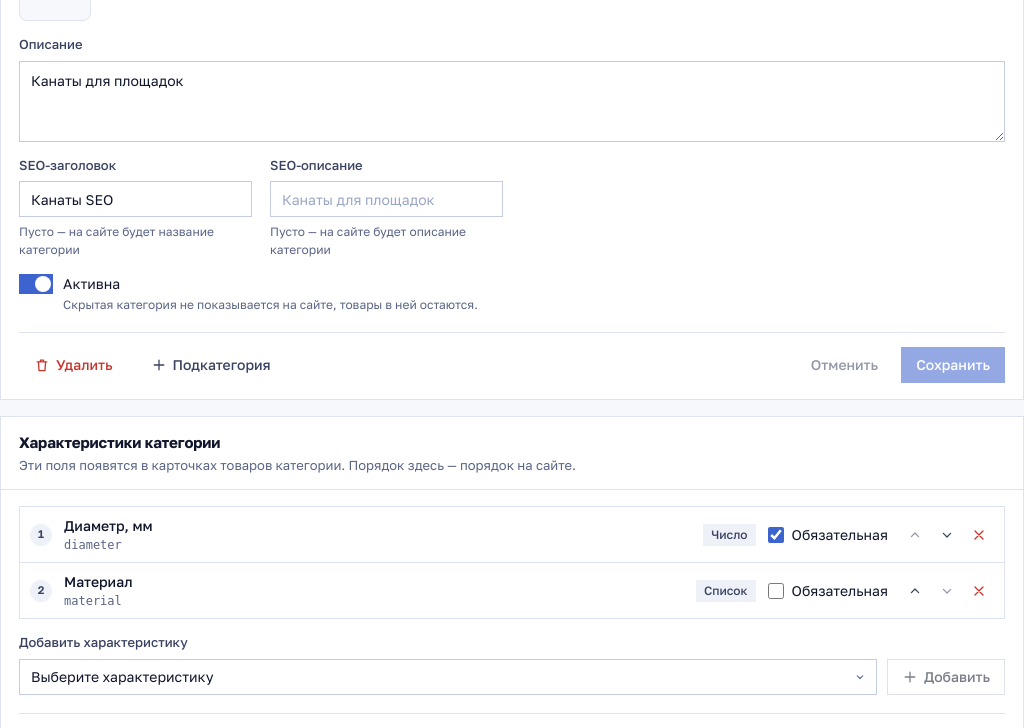
it: удаление и восстановление категории › 409: есть подкатегории / есть товары — объяснение, категория остаётся
This screenshot has width=1024, height=728.
(page scrolled)
Click the button "Удалить".
click(73, 365)  # box [19,347,128,383]
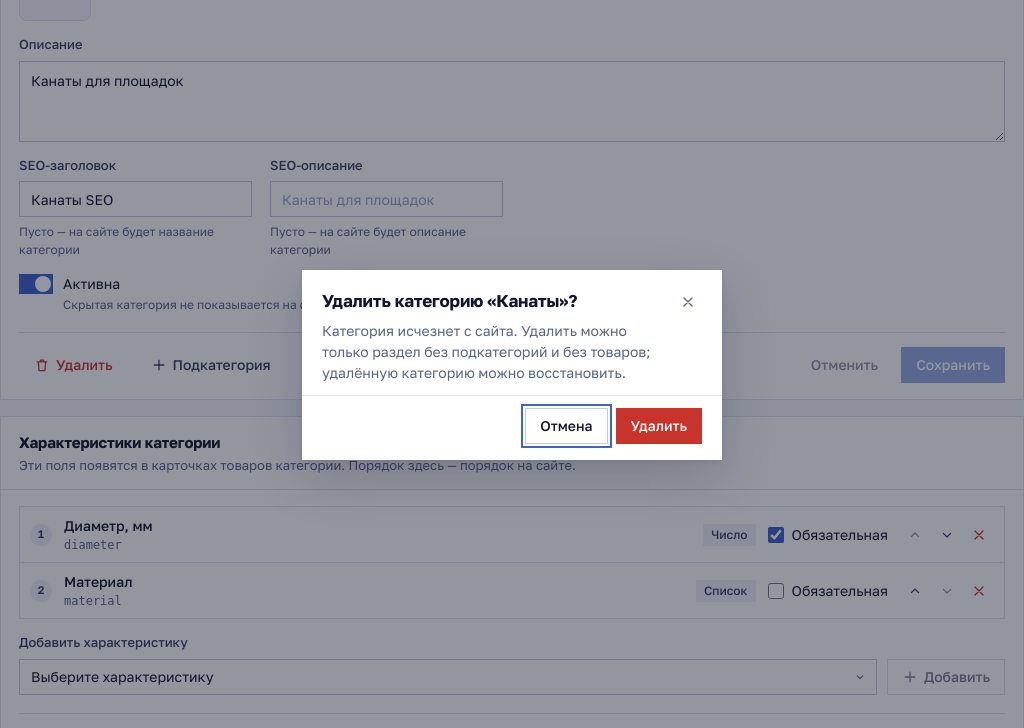
Click the button "Удалить".
click(659, 426)  # box [616,408,702,444]
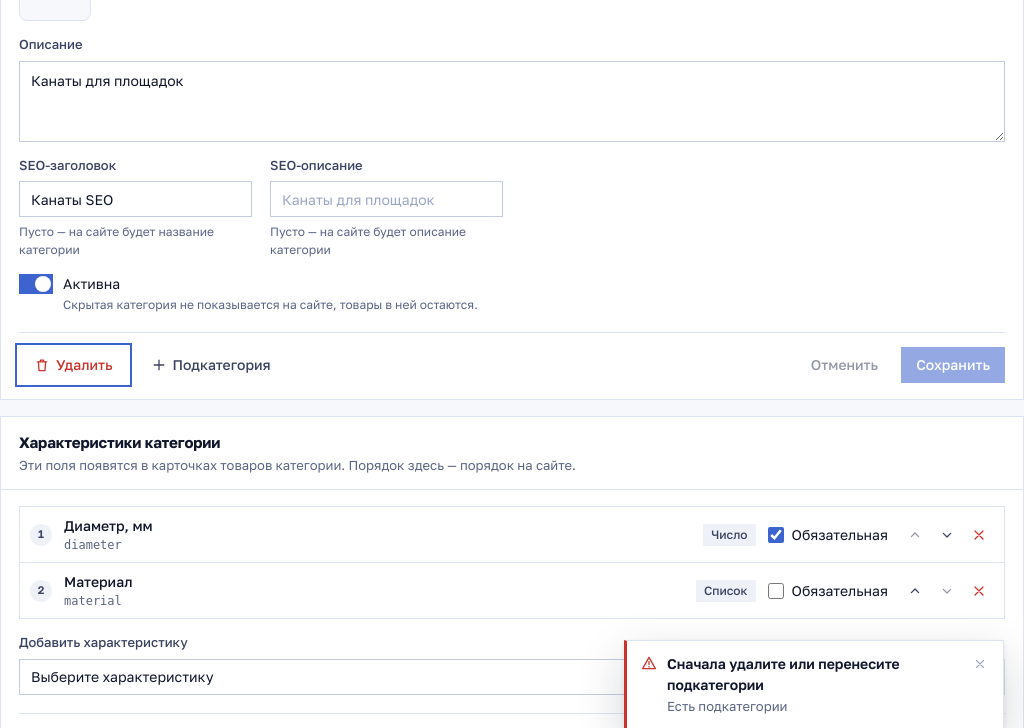
Now the text "Сначала удалите или перенесите подкатегории" is shown, box [667,654,900,692]
Click the button "Удалить".
click(73, 365)  # box [19,347,128,383]
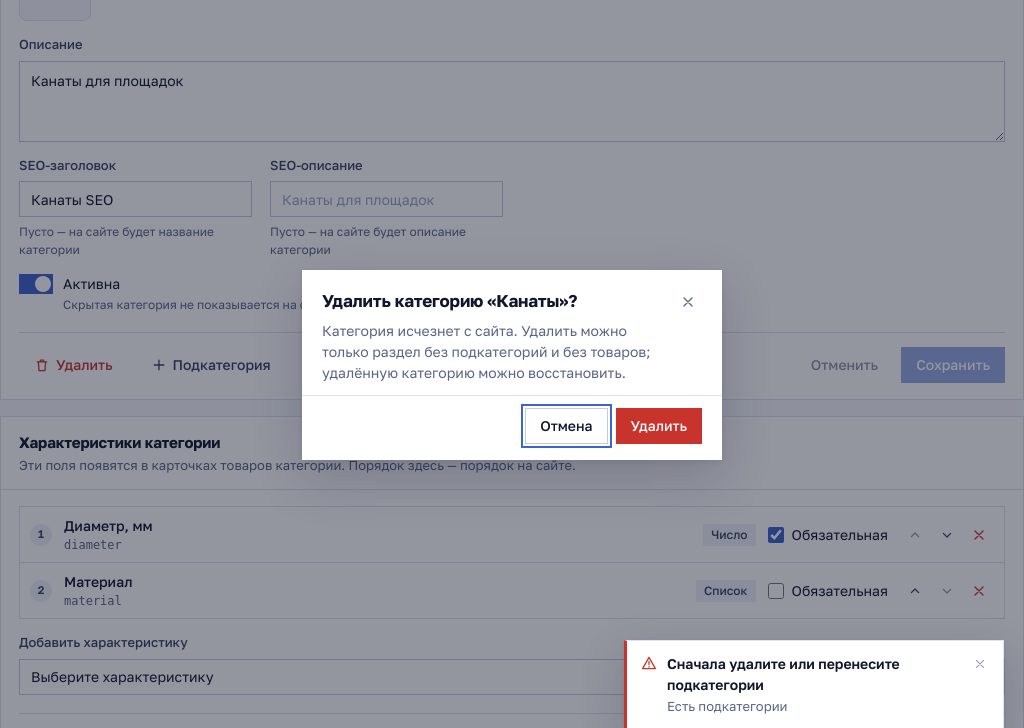
Click the button "Удалить".
click(659, 426)  # box [616,408,702,444]
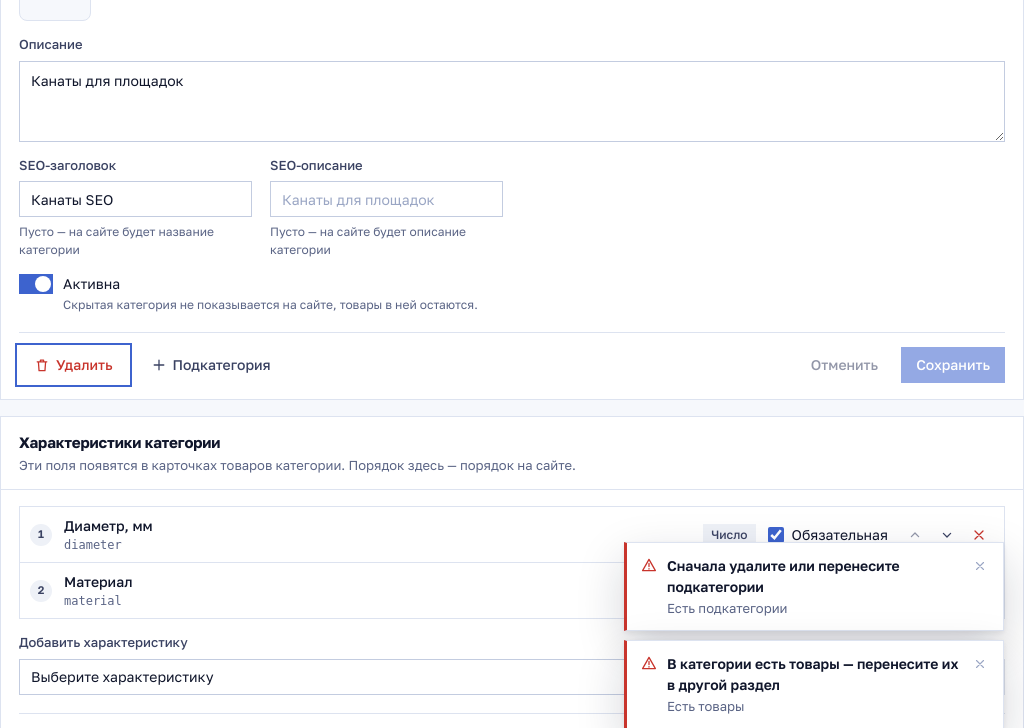
Now the text "В категории есть товары — перенесите их в другой раздел" is shown, box [667,652,959,694]
Now the text "Восстановить" is gone
